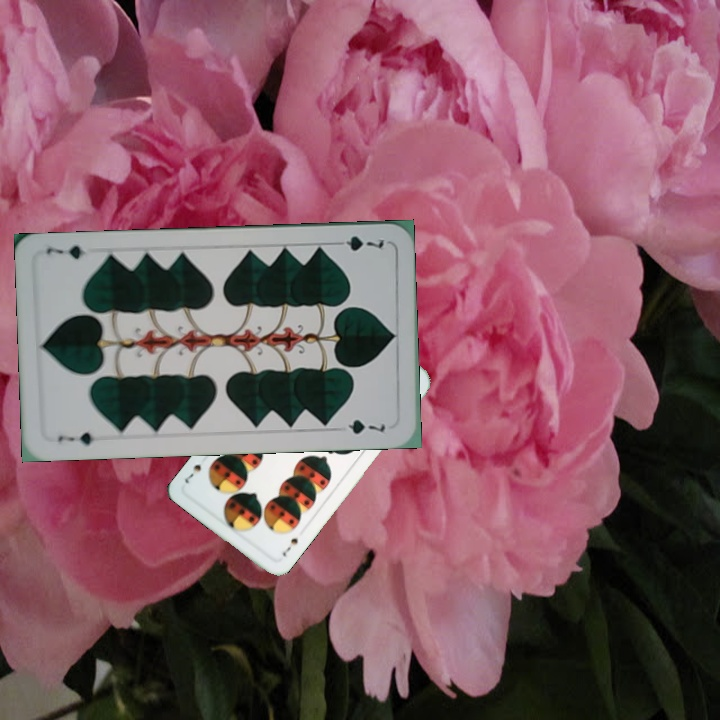G7: (329, 231, 386, 254), (54, 428, 97, 447)
S7: (278, 534, 301, 559)
